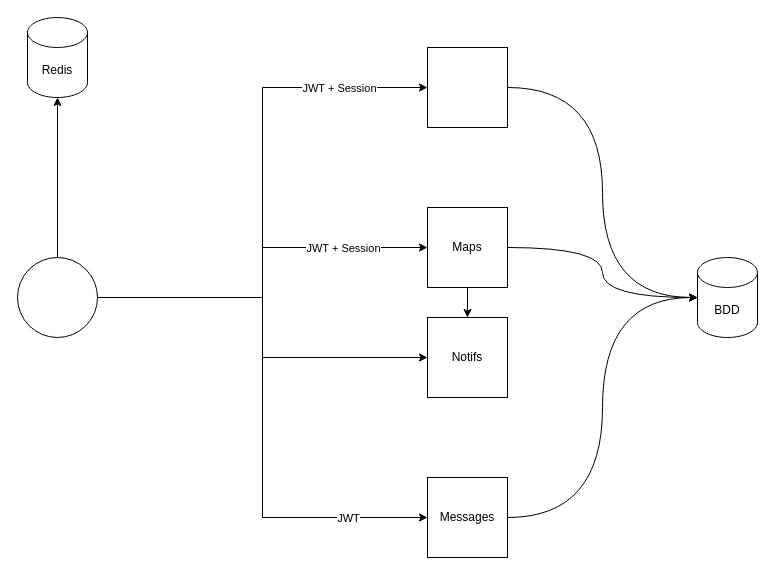
Image size: 775x575. Some labels were removed from this diagram. Each missing label, with the centre of its shape:
API Gateway: [57,297]
Auth: [467,87]
